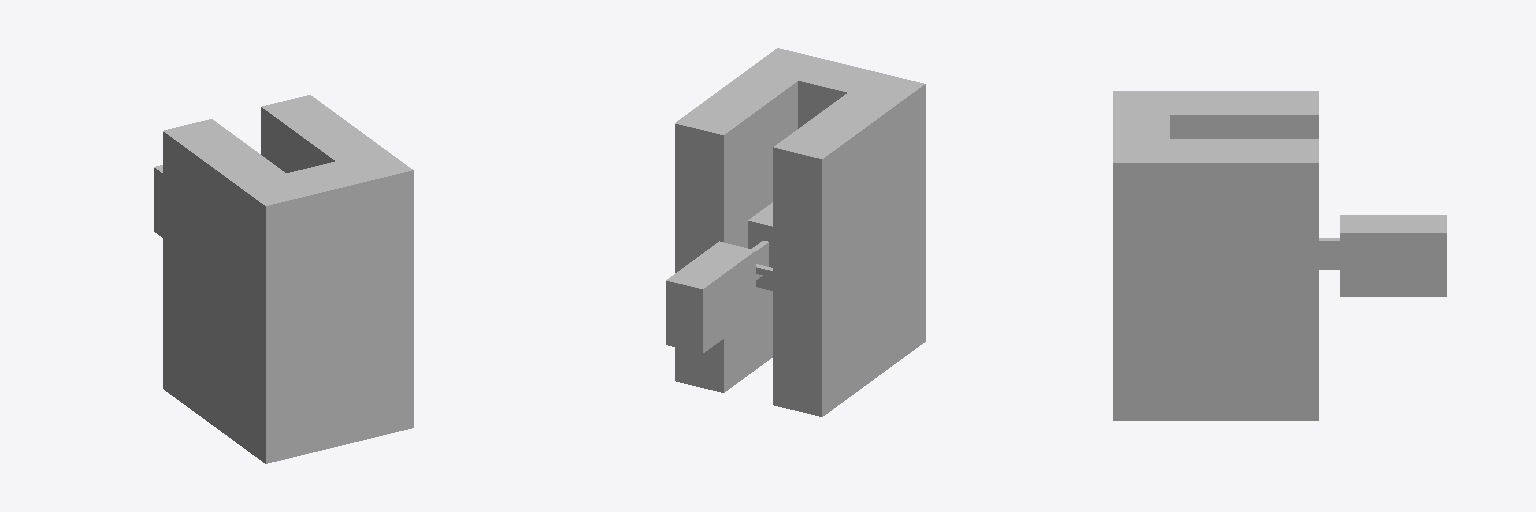
Rendered from paddles.obj.
3 renders of one model, left to right at view 1: azimuth 30°, elevation 25°; view 2: azimuth 150°, elevation 25°; view 3: azimuth 270°, elevation 25°, orthographic.
Parts seen in each view (by area): view 1: cube; view 2: cube; view 3: cube.
Part boxes in pixels (x1,y1,x2,y2): cube: (154, 95, 413, 463); cube: (666, 48, 925, 416); cube: (1113, 91, 1446, 420).
Size of the model in its own units: 3 by 5 by 5.88.